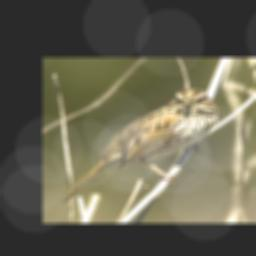Sparrow: (62, 88, 219, 204)
